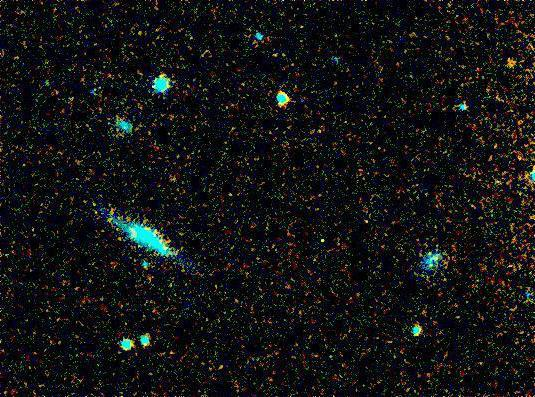star: (138, 221, 168, 251)
